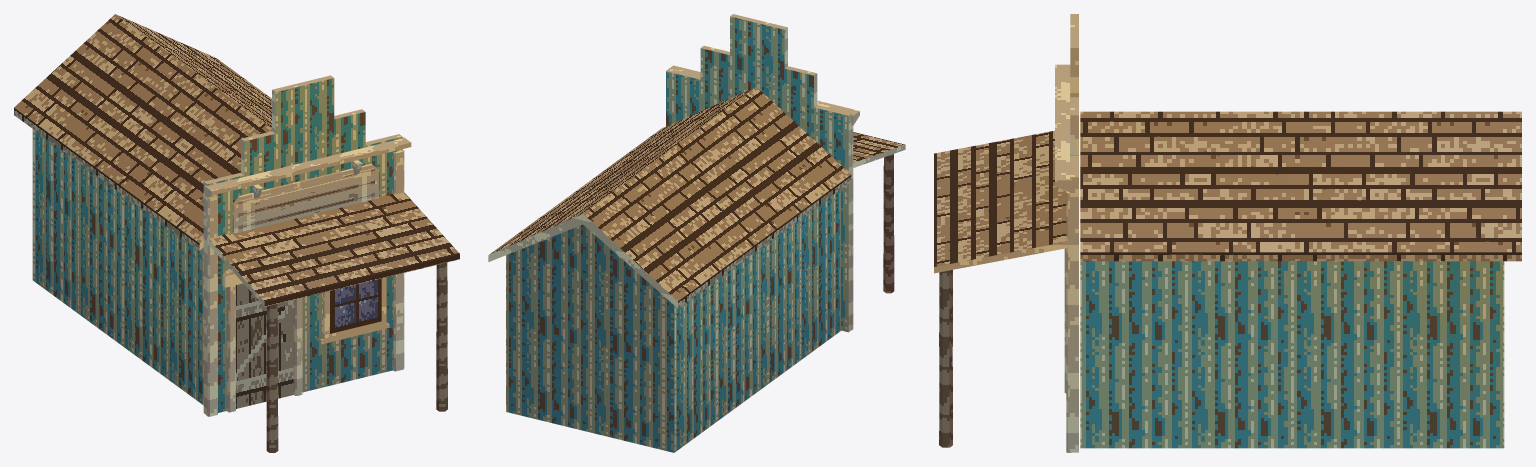
Rendered from wtown.facade__b_stepped.glb.
3 views of the same model, side by side, from view 1: azimuth 30°, elevation 25°; view 2: azimuth 150°, elevation 25°; view 3: azimuth 270°, elevation 25° (orthographic). The views are drawn at different scales.
Visible parts, largest first — view 1: kit_roof, kit_body, kit_porch, kit_front, kit_card_panes, kit_trim, kit_windows; view 2: kit_body, kit_roof, kit_front, kit_porch, kit_trim; view 3: kit_body, kit_roof, kit_porch, kit_trim, kit_front.
Boxes of the visible parts, bbox=[...] form: kit_roof: bbox=[14, 14, 271, 250]; kit_body: bbox=[32, 129, 203, 405]; kit_porch: bbox=[208, 192, 459, 452]; kit_front: bbox=[203, 75, 402, 414]; kit_card_panes: bbox=[236, 169, 381, 408]; kit_trim: bbox=[204, 137, 411, 416]; kit_windows: bbox=[320, 277, 389, 344]; kit_body: bbox=[506, 189, 840, 452]; kit_roof: bbox=[488, 87, 851, 308]; kit_front: bbox=[666, 14, 851, 332]; kit_porch: bbox=[853, 132, 905, 293]; kit_trim: bbox=[667, 65, 859, 330]; kit_body: bbox=[1080, 261, 1504, 448]; kit_roof: bbox=[1080, 111, 1521, 261]; kit_porch: bbox=[934, 130, 1067, 447]; kit_trim: bbox=[1055, 64, 1071, 452]; kit_front: bbox=[1070, 14, 1078, 452].
Bounding box in the file's own units: 3.94 × 5.7 × 8.32.
7 materials, 7 textured.
